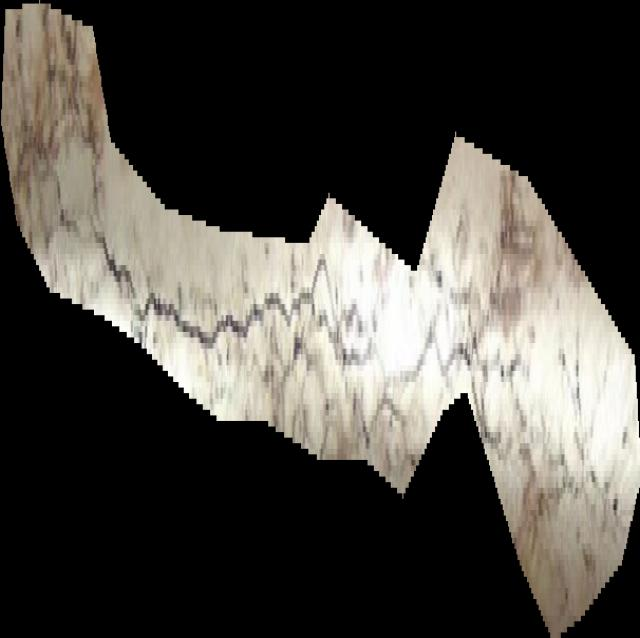Crack: (1, 0, 640, 638)
